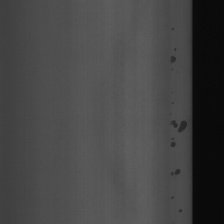oil_spot: (171, 192, 184, 215), (170, 117, 187, 132), (168, 48, 178, 66), (168, 134, 178, 146), (172, 165, 180, 178)
